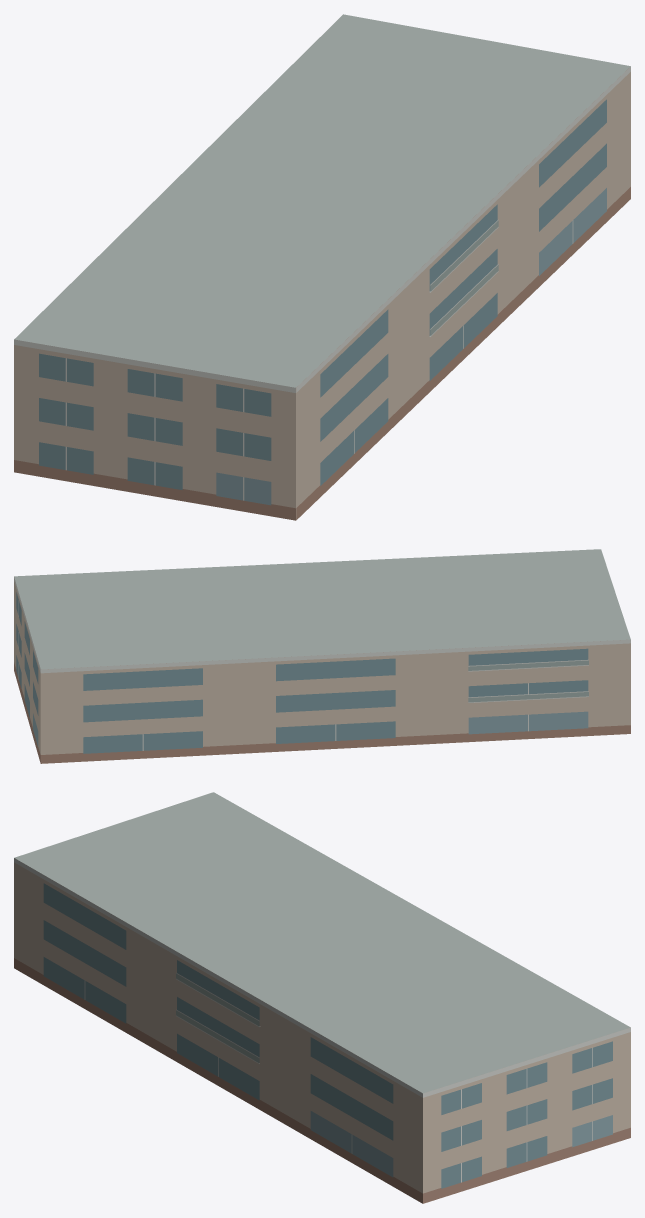
The model's file is survey-upis-32744857.glb.
The picture shows the model from 3 angles, top to bottom: view 1: azimuth 30°, elevation 25°; view 2: azimuth 150°, elevation 25°; view 3: azimuth 270°, elevation 25°; orthographic projection. The views are drawn at different scales.
Visible parts, largest first — view 1: survey-upis-32744857.tmp; view 2: survey-upis-32744857.tmp; view 3: survey-upis-32744857.tmp.
Boxes of the visible parts, bbox=[...] form: survey-upis-32744857.tmp: bbox=[14, 14, 630, 520]; survey-upis-32744857.tmp: bbox=[14, 549, 630, 763]; survey-upis-32744857.tmp: bbox=[14, 792, 630, 1203].
Size of the model in its own units: 35.12 by 6 by 30.38.
